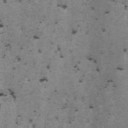oxide scale of temperature system: (0, 3, 128, 88), (91, 5, 128, 32), (68, 105, 94, 124), (0, 88, 16, 100), (29, 118, 36, 128), (3, 0, 8, 4)
